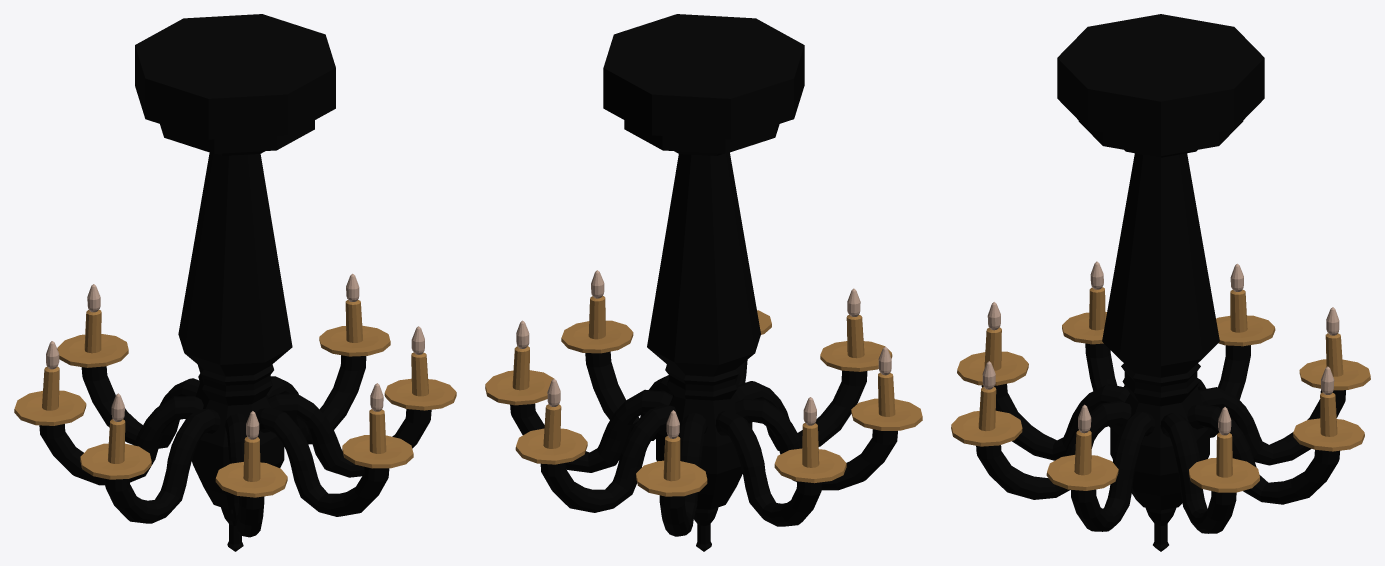
The model's file is Chandelier.fbx.
The picture shows the model from 3 angles, left to right: view 1: azimuth 30°, elevation 25°; view 2: azimuth 150°, elevation 25°; view 3: azimuth 270°, elevation 25°; orthographic projection.
Parts seen in each view (by area): view 1: Chandelier, Candles; view 2: Chandelier, Candles; view 3: Chandelier, Candles.
Part boxes in pixels (x1=…): Chandelier: x1=135, y1=14, x2=335, y2=551; Candles: x1=14, y1=273, x2=456, y2=537; Chandelier: x1=603, y1=14, x2=804, y2=551; Candles: x1=485, y1=270, x2=922, y2=536; Chandelier: x1=1057, y1=14, x2=1264, y2=551; Candles: x1=951, y1=261, x2=1370, y2=533.
Bounding box in the file's own units: 40.19 × 52.2 × 40.19.
